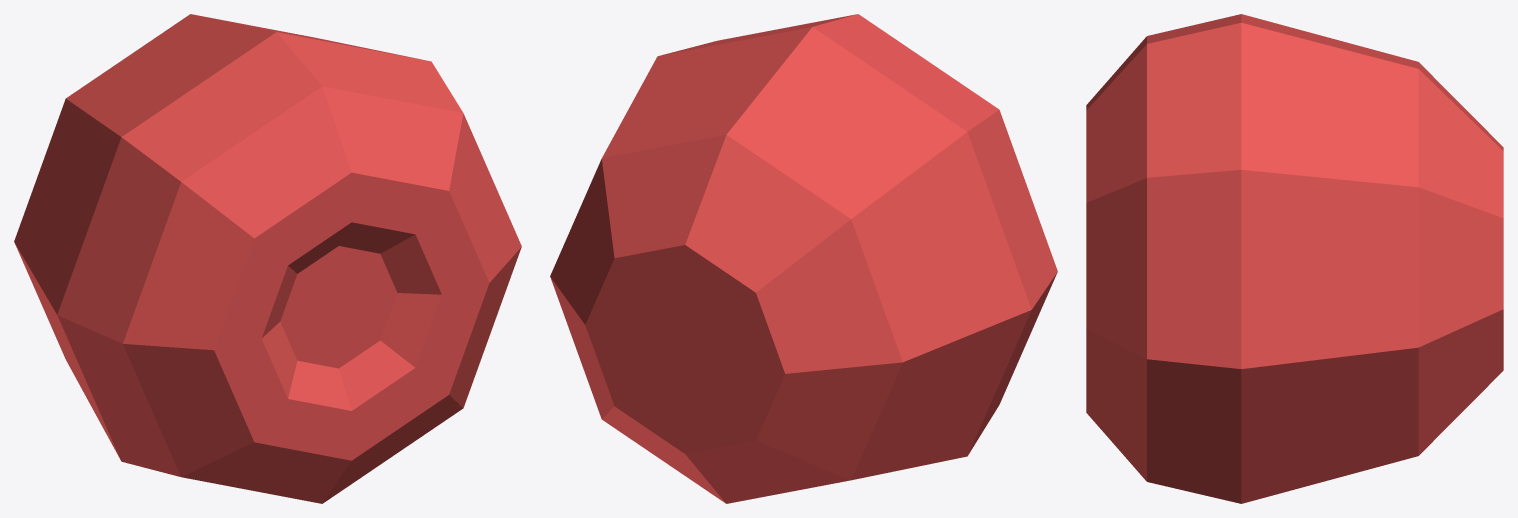
The model's file is apple.obj.
3 views of the same model, side by side, from view 1: azimuth 30°, elevation 25°; view 2: azimuth 150°, elevation 25°; view 3: azimuth 270°, elevation 25° (orthographic). The views are drawn at different scales.
Visible parts, largest first — view 1: apple.003; view 2: apple.003; view 3: apple.003.
Boxes of the visible parts, box(x1,y1,x2,y2) form: apple.003: box(14, 14, 521, 503); apple.003: box(550, 14, 1057, 503); apple.003: box(1086, 14, 1503, 503).
Size of the model in its own units: 0.1963 by 0.1963 by 0.157.
